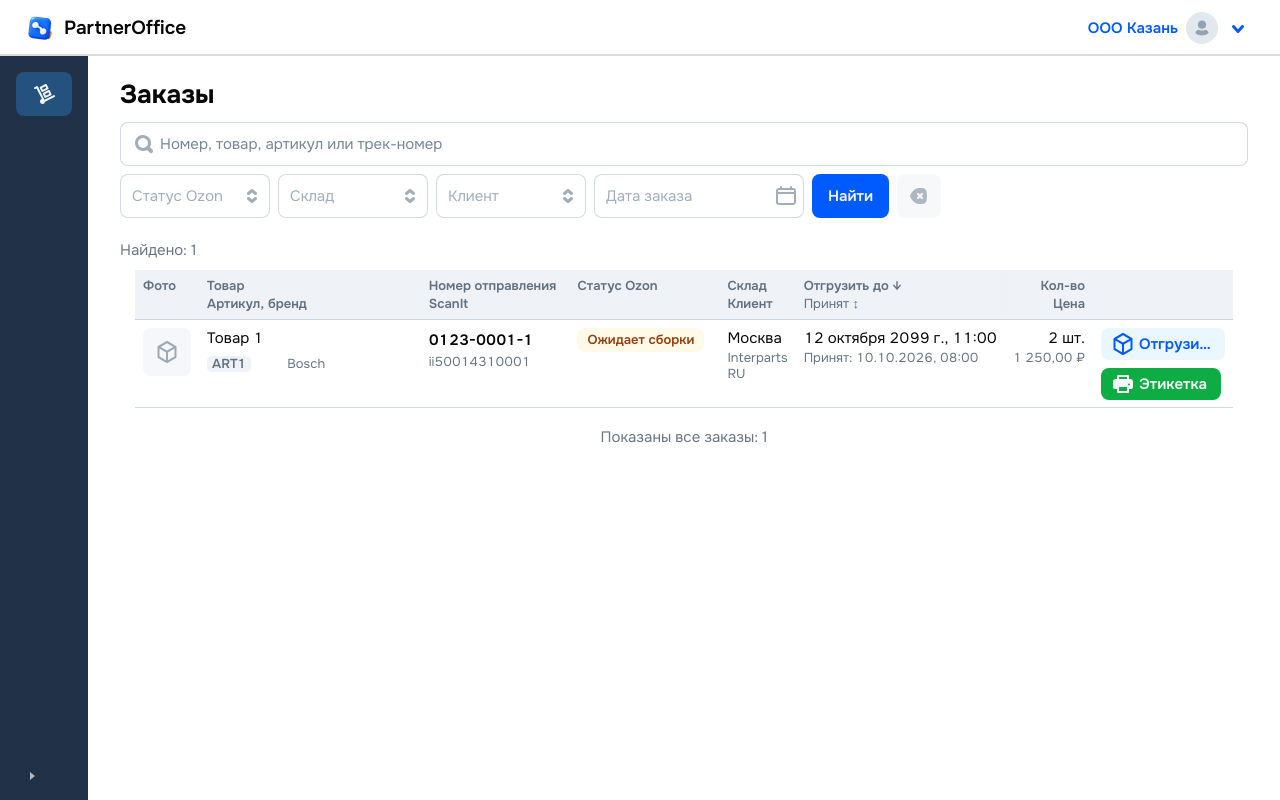
it: Печать этикетки › отказ по правам показывает объяснение сервера
The width and height of the screenshot is (1280, 800).
Click the button "Этикетка".
click(1161, 384)  # box 1101,368 -> 1221,400
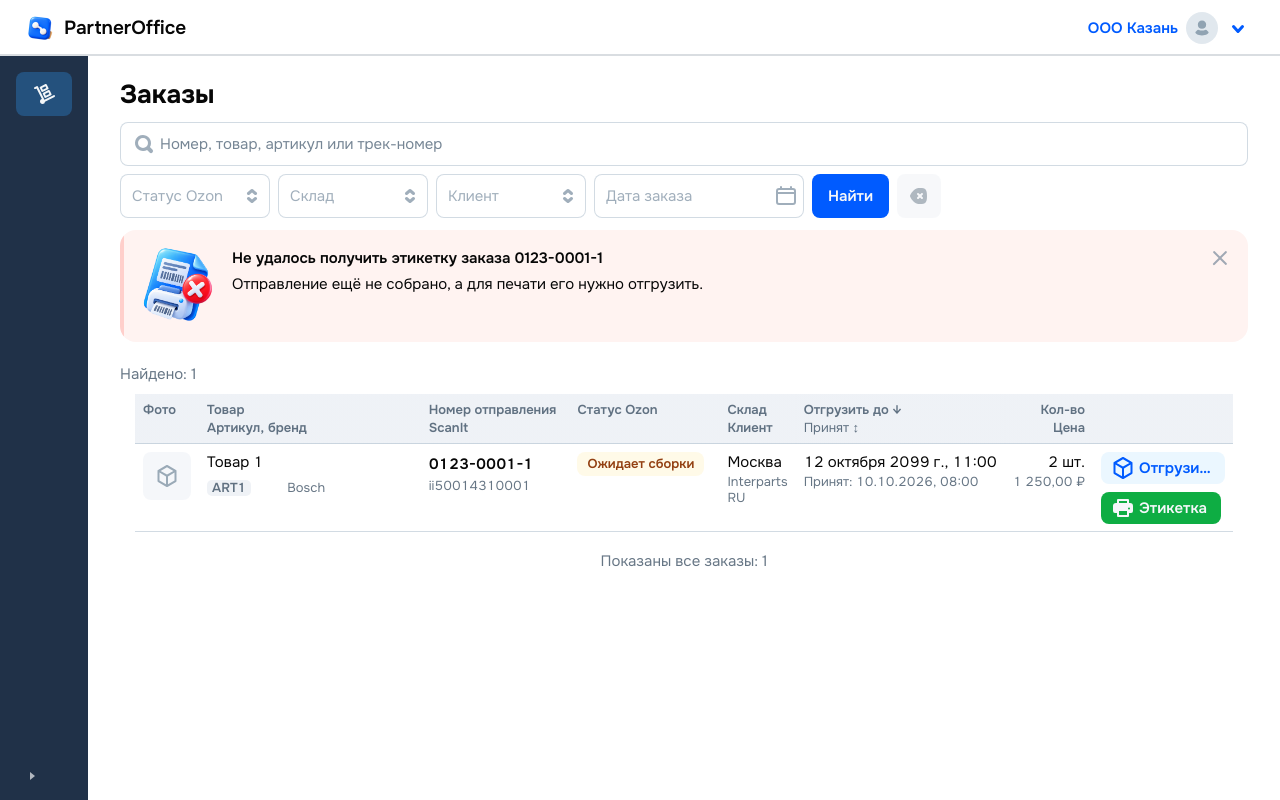
expect the text "Не удалось получить этикетку заказа 0123-0001-1" is shown: met, box 232,248 -> 603,268
expect the text "для печати его нужно отгрузить" is shown: met, box 232,274 -> 703,294
